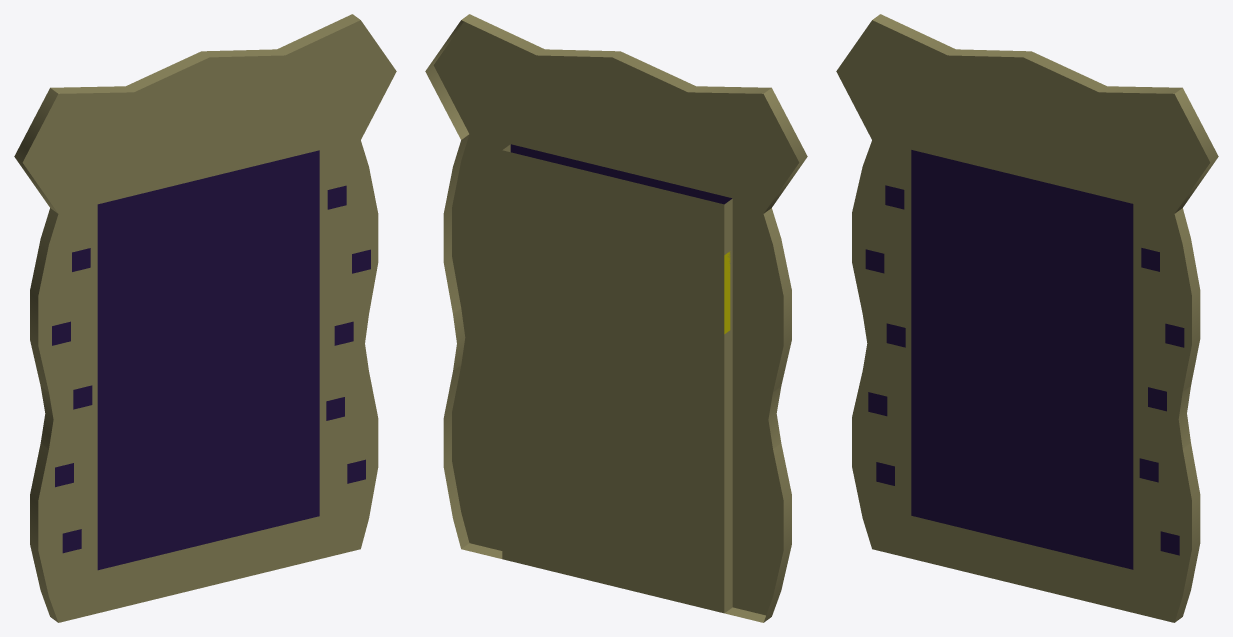
Rendered from PlinkoMachine_MDL.fbx.
3 renders of one model, left to right at view 1: azimuth 30°, elevation 25°; view 2: azimuth 150°, elevation 25°; view 3: azimuth 330°, elevation 25°, orthographic.
Parts seen in each view (by area): view 1: PlinkoMachine_MainBase_MDL, PlinkoMachine_GlassPane_MDL; view 2: PlinkoMachine_MainBase_MDL, PlinkoMachine_GlassPane_MDL, PlinkoMachine_EdgeBlocker_MDL; view 3: PlinkoMachine_MainBase_MDL, PlinkoMachine_GlassPane_MDL.
Boxes of the visible parts, x1,y1,x2,y2 form: PlinkoMachine_MainBase_MDL: (14, 14, 396, 622); PlinkoMachine_GlassPane_MDL: (97, 150, 319, 570); PlinkoMachine_MainBase_MDL: (425, 14, 807, 622); PlinkoMachine_GlassPane_MDL: (510, 144, 732, 204); PlinkoMachine_EdgeBlocker_MDL: (724, 251, 730, 334); PlinkoMachine_MainBase_MDL: (836, 14, 1218, 622); PlinkoMachine_GlassPane_MDL: (911, 150, 1133, 569).
Size of the model in its own units: 182 by 246 by 7.1.
